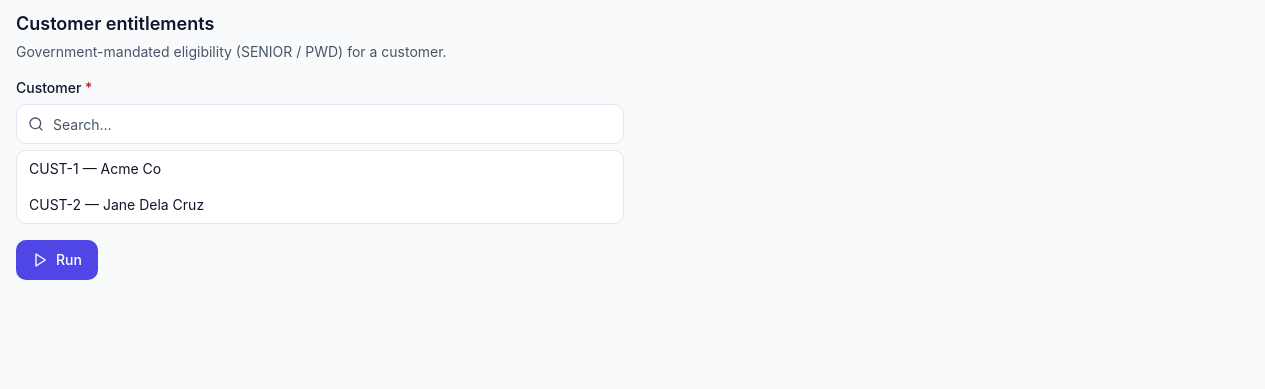
Test: CRM manifest — US1 customers + tiers › entitlements: lists a customer's SENIOR/PWD eligibility
Step 1. Click the button "CUST-2 — Jane Dela Cruz" → (117, 204), box [17,187,623,223]
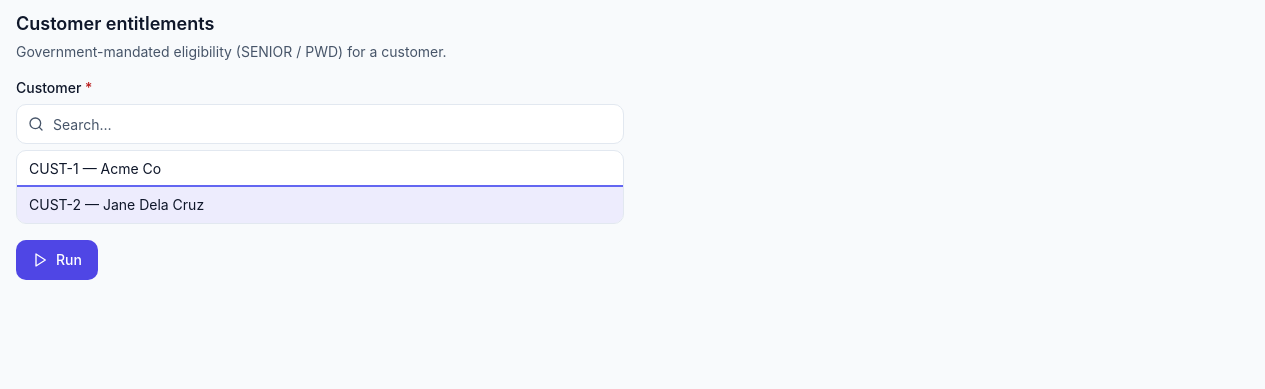
Step 2. Click the button "Run" → (57, 260), box [16,240,98,280]
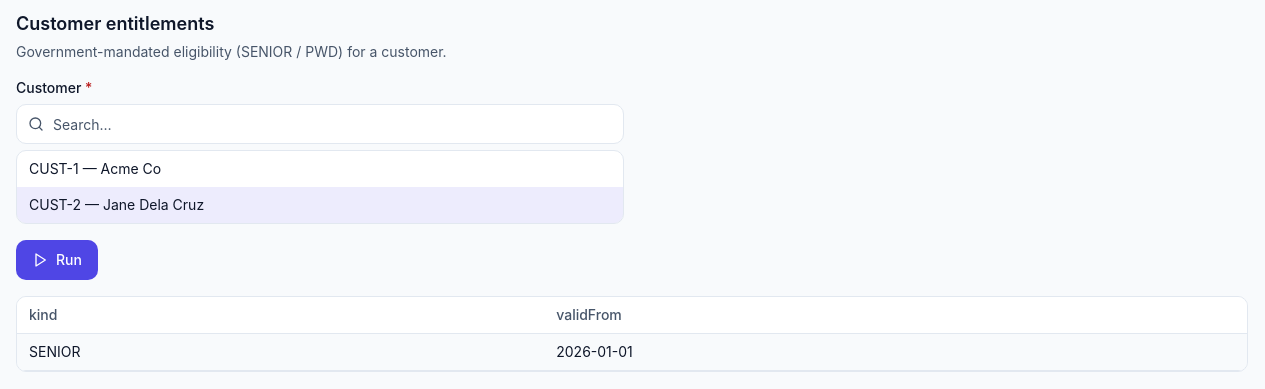
Expected: the text "SENIOR" is shown, [17,334,544,370]
